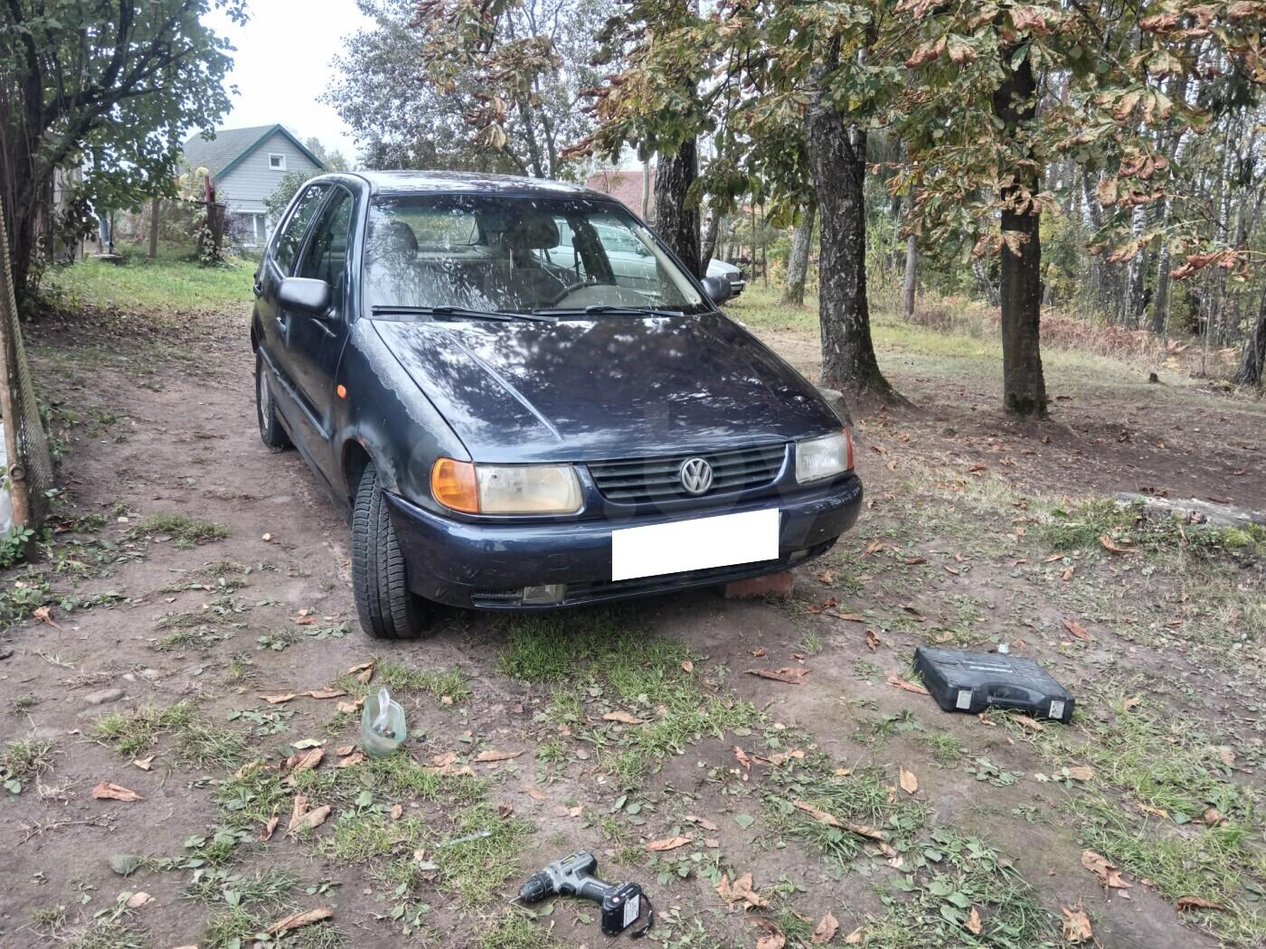Polo_1994-2002: (233, 155, 883, 680)
